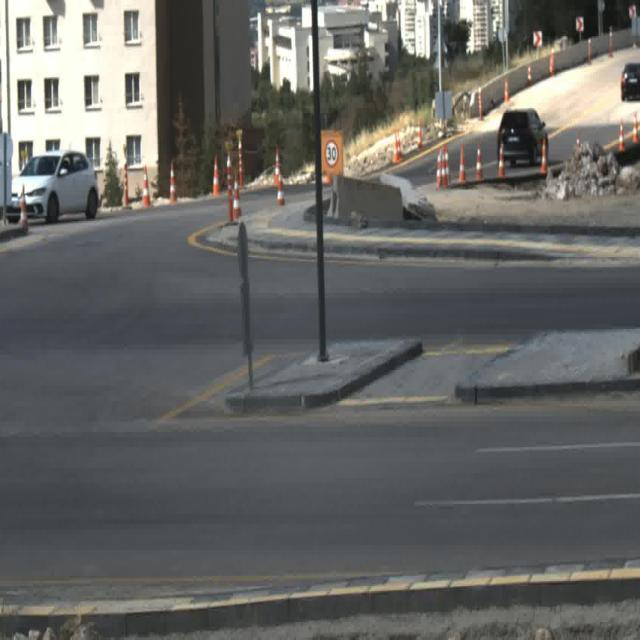Car: (4, 147, 100, 222), (498, 109, 548, 165), (619, 64, 640, 100)
